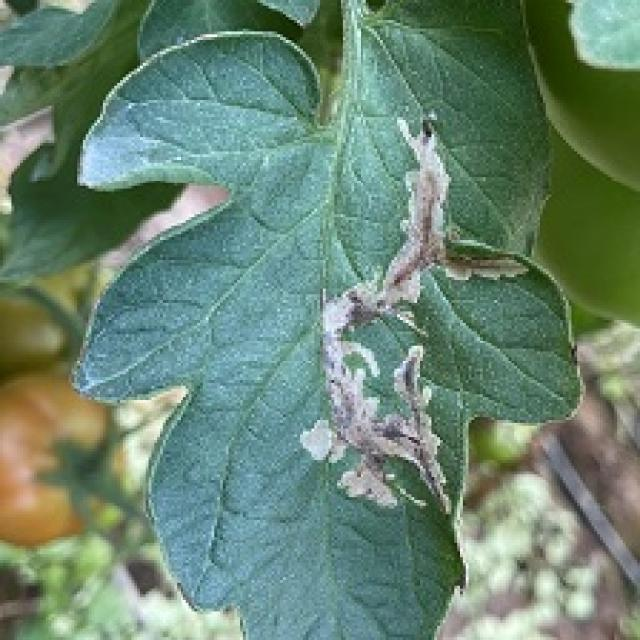Tuta absoluta: (274, 106, 553, 523)
